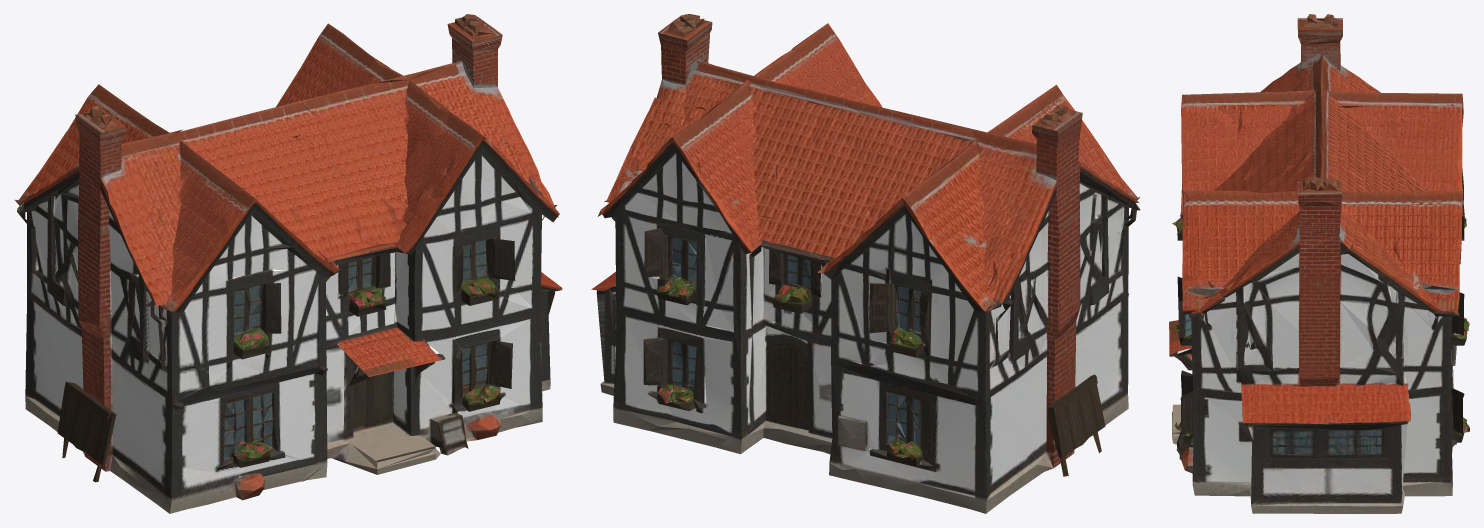
Rendered from haus-1.glb.
The picture shows the model from 3 angles, left to right: view 1: azimuth 30°, elevation 25°; view 2: azimuth 150°, elevation 25°; view 3: azimuth 270°, elevation 25°; orthographic projection. The views are drawn at different scales.
Parts seen in each view (by area): view 1: output_unwrapped; view 2: output_unwrapped; view 3: output_unwrapped.
Part boxes in pixels (bbox=[...]): output_unwrapped: bbox=[14, 14, 562, 513]; output_unwrapped: bbox=[591, 14, 1140, 513]; output_unwrapped: bbox=[1169, 14, 1469, 513].
Bounding box in the file's own units: 1.9 × 1.44 × 1.24.
1 material, 1 textured.
